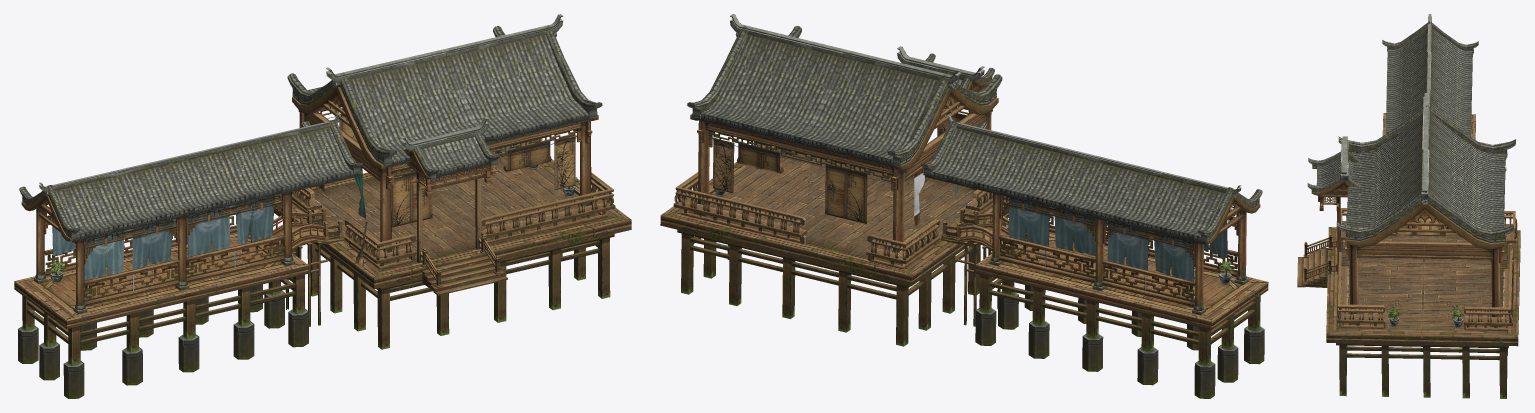
Rendered from ss_fangzi_1.FBX.
3 views of the same model, side by side, from view 1: azimuth 30°, elevation 25°; view 2: azimuth 150°, elevation 25°; view 3: azimuth 270°, elevation 25° (orthographic). The views are drawn at different scales.
Parts seen in each view (by area): view 1: ss_fangzi_1; view 2: ss_fangzi_1; view 3: ss_fangzi_1.
Part boxes in pixels (left/top/right/bottom): ss_fangzi_1: left=14, top=14, right=631, bottom=398; ss_fangzi_1: left=660, top=14, right=1268, bottom=398; ss_fangzi_1: left=1297, top=14, right=1520, bottom=398.
Size of the model in its own units: 2395 by 1059 by 1025.
